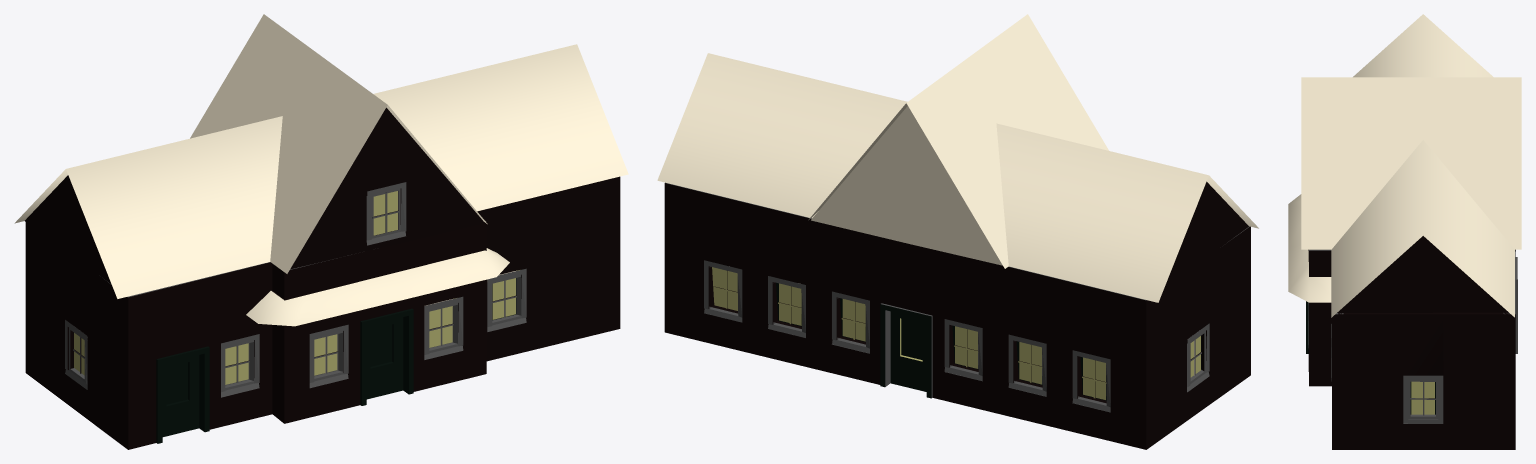
File: CasaEstado1 1.fbx
3 renders of one model, left to right at view 1: azimuth 30°, elevation 25°; view 2: azimuth 150°, elevation 25°; view 3: azimuth 270°, elevation 25°, orthographic. The views are drawn at different scales.
Parts seen in each view (by area): view 1: Plane001; view 2: Plane001; view 3: Plane001.
Part boxes in pixels (x1,y1,x2,y2): Plane001: (14, 14, 628, 449); Plane001: (657, 14, 1258, 449); Plane001: (1288, 14, 1521, 449).
Bounding box in the file's own units: 214 × 119 × 95.17.
